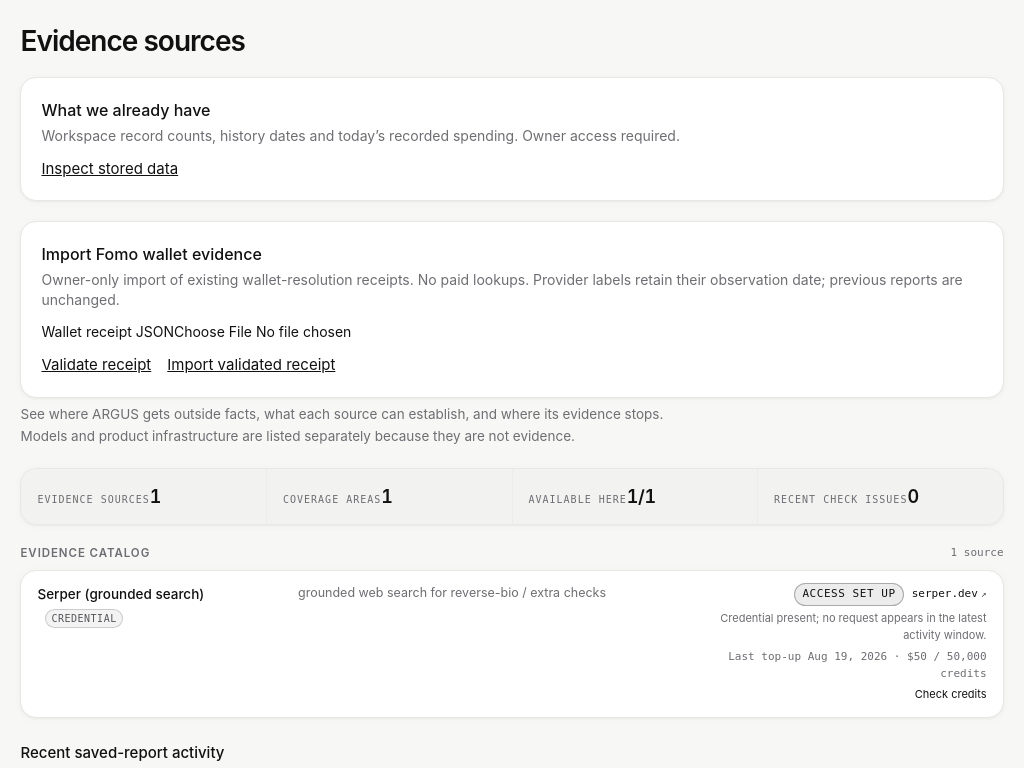
Test: Providers immutable usage trail › shows the Serper last top-up and fetches credits only after click
This screenshot has width=1024, height=768.
Expected: the text "Remaining: 49,123" is not shown
What coordinates should you click on to do the following:
click the button "Check credits"
I would click on:
 (951, 695)
Its box is x1=915 y1=686 x2=986 y2=703.
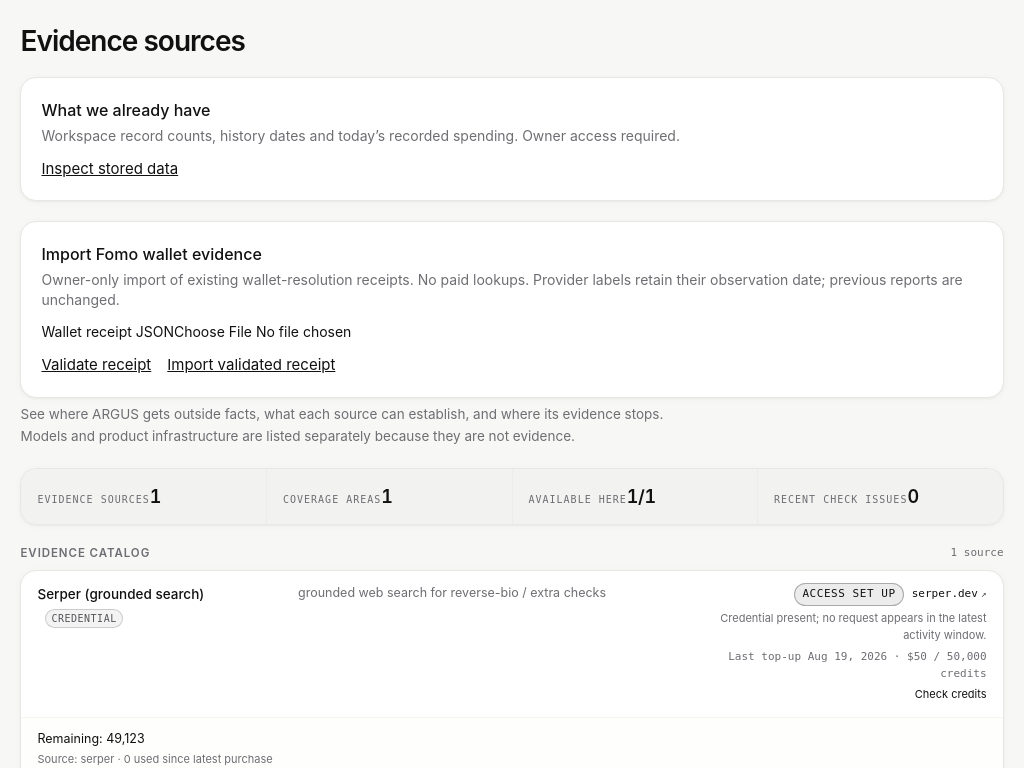
Expected: the text "Remaining: 49,123" is shown, x1=38 y1=731 x2=145 y2=746
Expected: the text "Source: serper" is shown, x1=38 y1=752 x2=273 y2=766
